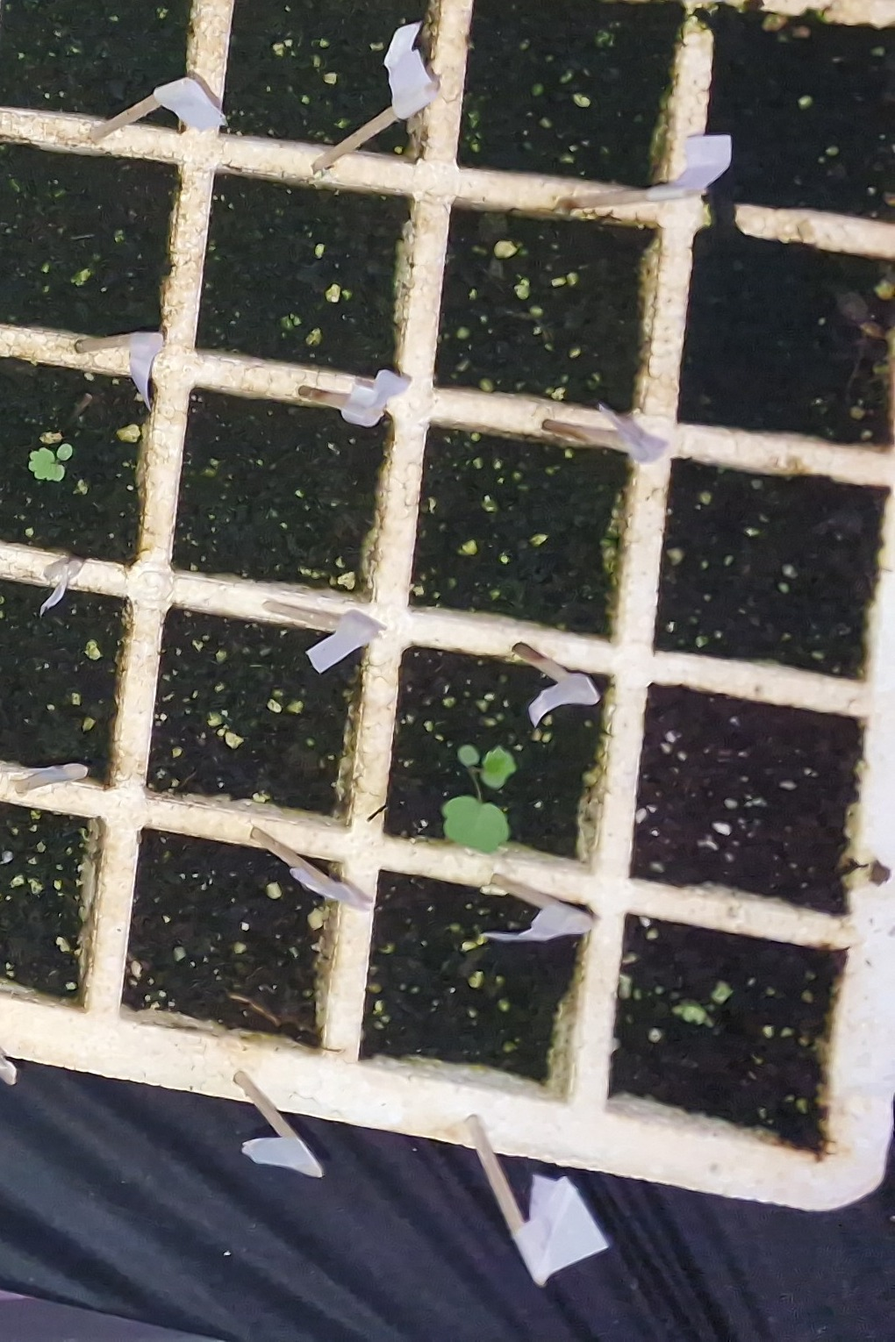Folha: (444, 797, 508, 851), (483, 746, 515, 784), (29, 447, 63, 481), (458, 745, 479, 767), (57, 444, 72, 460)
Germinacao: (443, 745, 512, 851), (28, 444, 73, 481)
